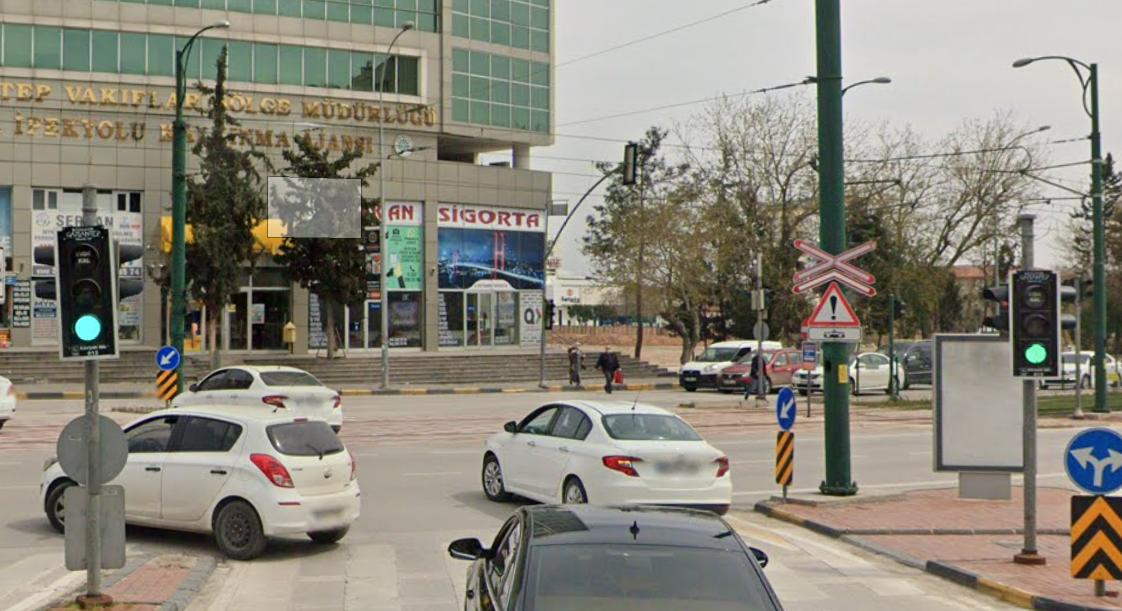greenlight: (56, 224, 116, 355), (1012, 264, 1058, 379)
